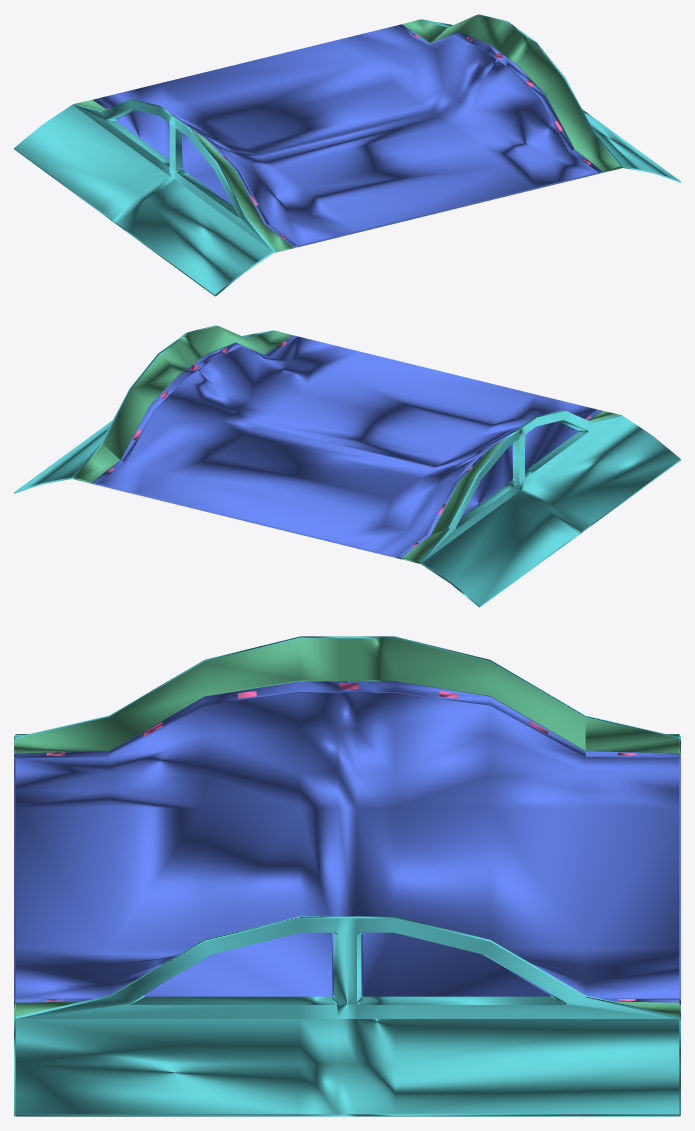
The model's file is RaceTrack_clean_deluxe_prop_uee_10.glb.
The picture shows the model from 3 angles, top to bottom: view 1: azimuth 30°, elevation 25°; view 2: azimuth 150°, elevation 25°; view 3: azimuth 270°, elevation 25°; orthographic projection. The views are drawn at different scales.
Size of the model in its own units: 8 by 1.5 by 6.
